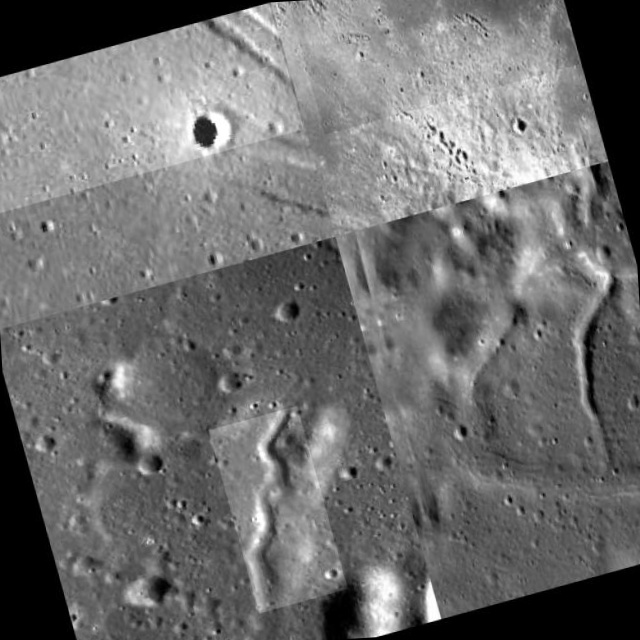crater: (0, 0, 314, 201), (306, 0, 594, 135), (526, 178, 640, 489), (202, 403, 332, 609)
